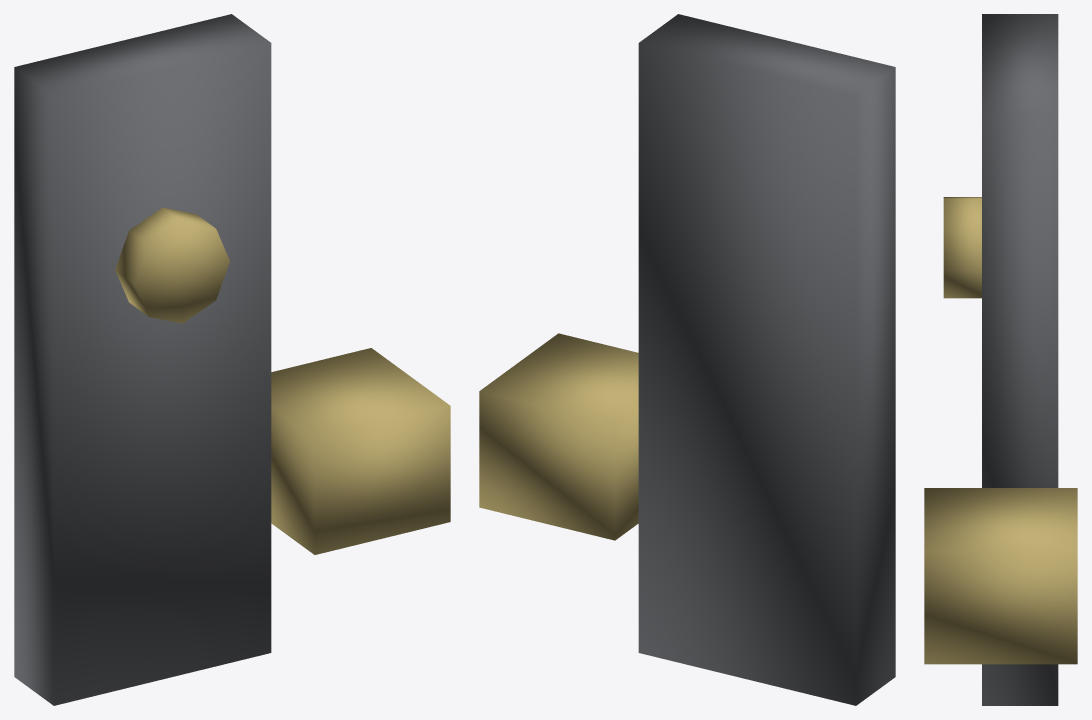
File: elevator_call_14.glb
The picture shows the model from 3 angles, left to right: view 1: azimuth 30°, elevation 25°; view 2: azimuth 150°, elevation 25°; view 3: azimuth 270°, elevation 25°; orthographic projection. The views are drawn at different scales.
Parts seen in each view (by area): view 1: world; view 2: world; view 3: world.
Boxes of the visible parts, x1,y1,x2,y2 form: world: [14, 14, 450, 705]; world: [479, 14, 895, 705]; world: [924, 14, 1077, 705].
Bounding box in the file's own units: 0.2592 × 0.4116 × 0.097.
